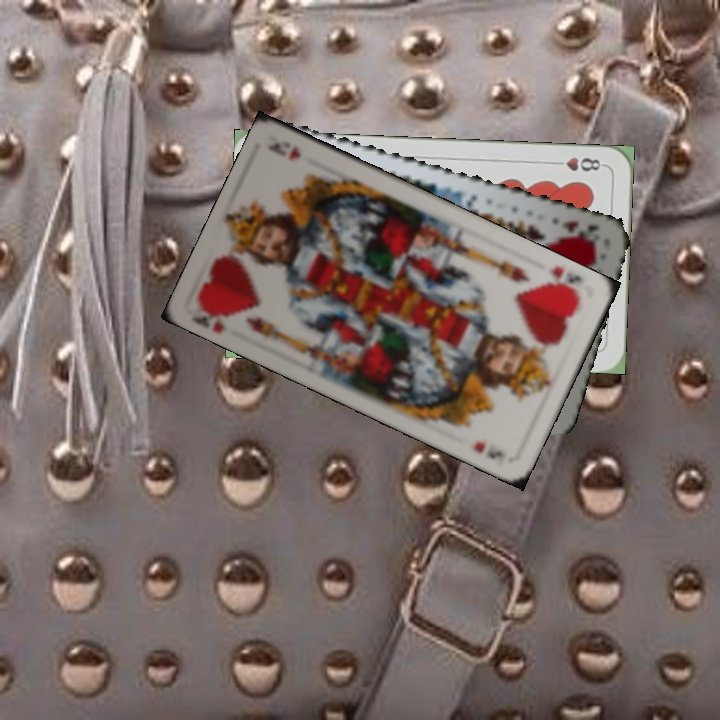H8: (548, 153, 607, 174)
HK: (188, 310, 237, 336), (543, 262, 585, 291), (559, 216, 602, 240)
